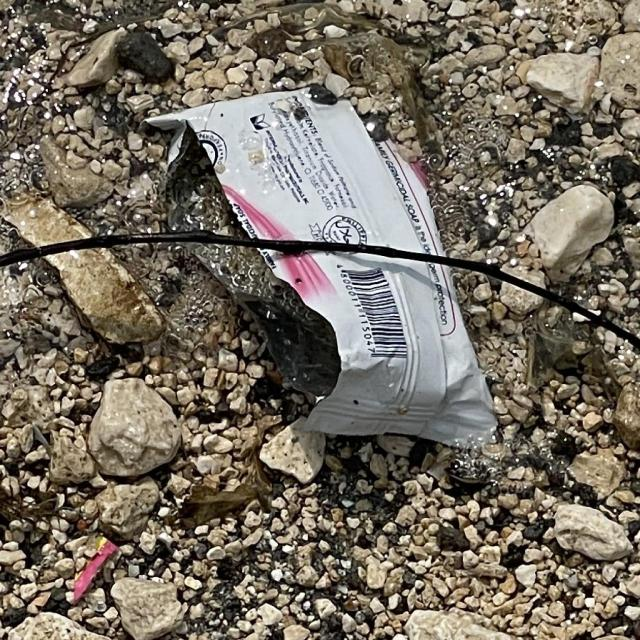plastic_waste: (143, 86, 505, 456)
